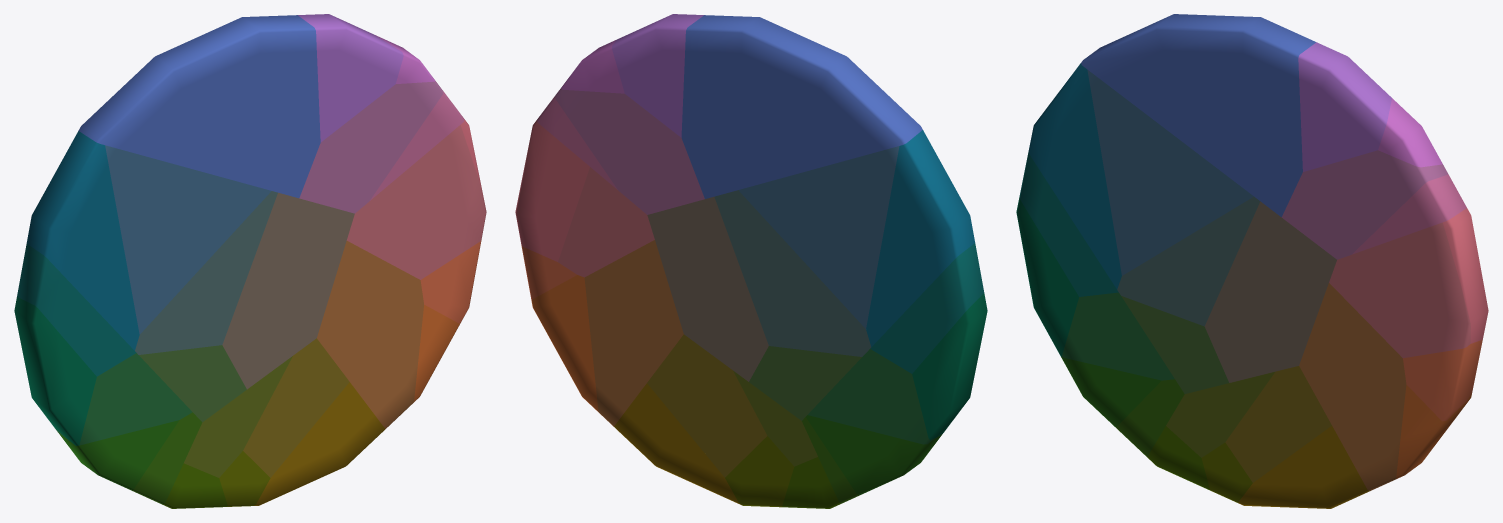
Rendered from Archerytarget_mesh.fbx.
The picture shows the model from 3 angles, left to right: view 1: azimuth 30°, elevation 25°; view 2: azimuth 150°, elevation 25°; view 3: azimuth 330°, elevation 25°; orthographic projection.
Parts seen in each view (by area): view 1: REFERENCE_MESH; view 2: REFERENCE_MESH; view 3: REFERENCE_MESH.
Boxes of the visible parts, <box> form: REFERENCE_MESH: <box>14,14,486,508</box>; REFERENCE_MESH: <box>515,14,987,508</box>; REFERENCE_MESH: <box>1016,14,1488,508</box>.
Bounding box in the file's own units: 600 × 600 × 45.
